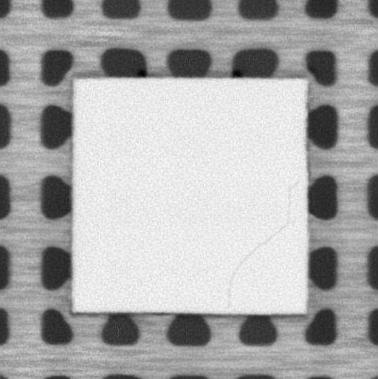DIE_CRACK: (225, 180, 302, 303)
